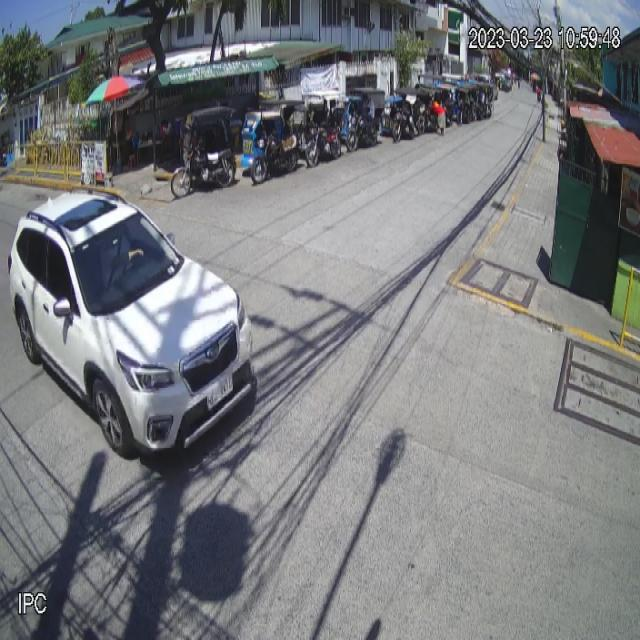Car: (9, 187, 257, 464)
